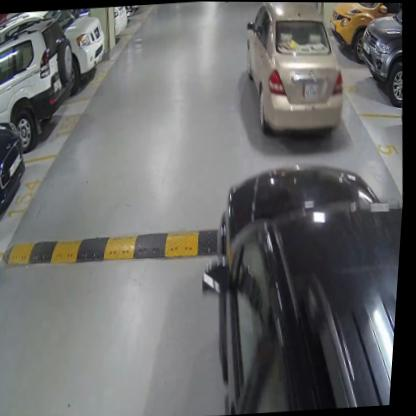np: (303, 80, 322, 99)
